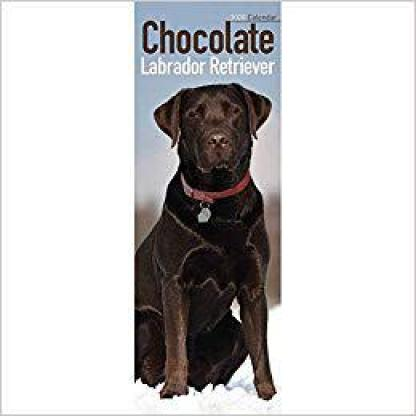Labarador Retriever: (102, 81, 276, 396)
